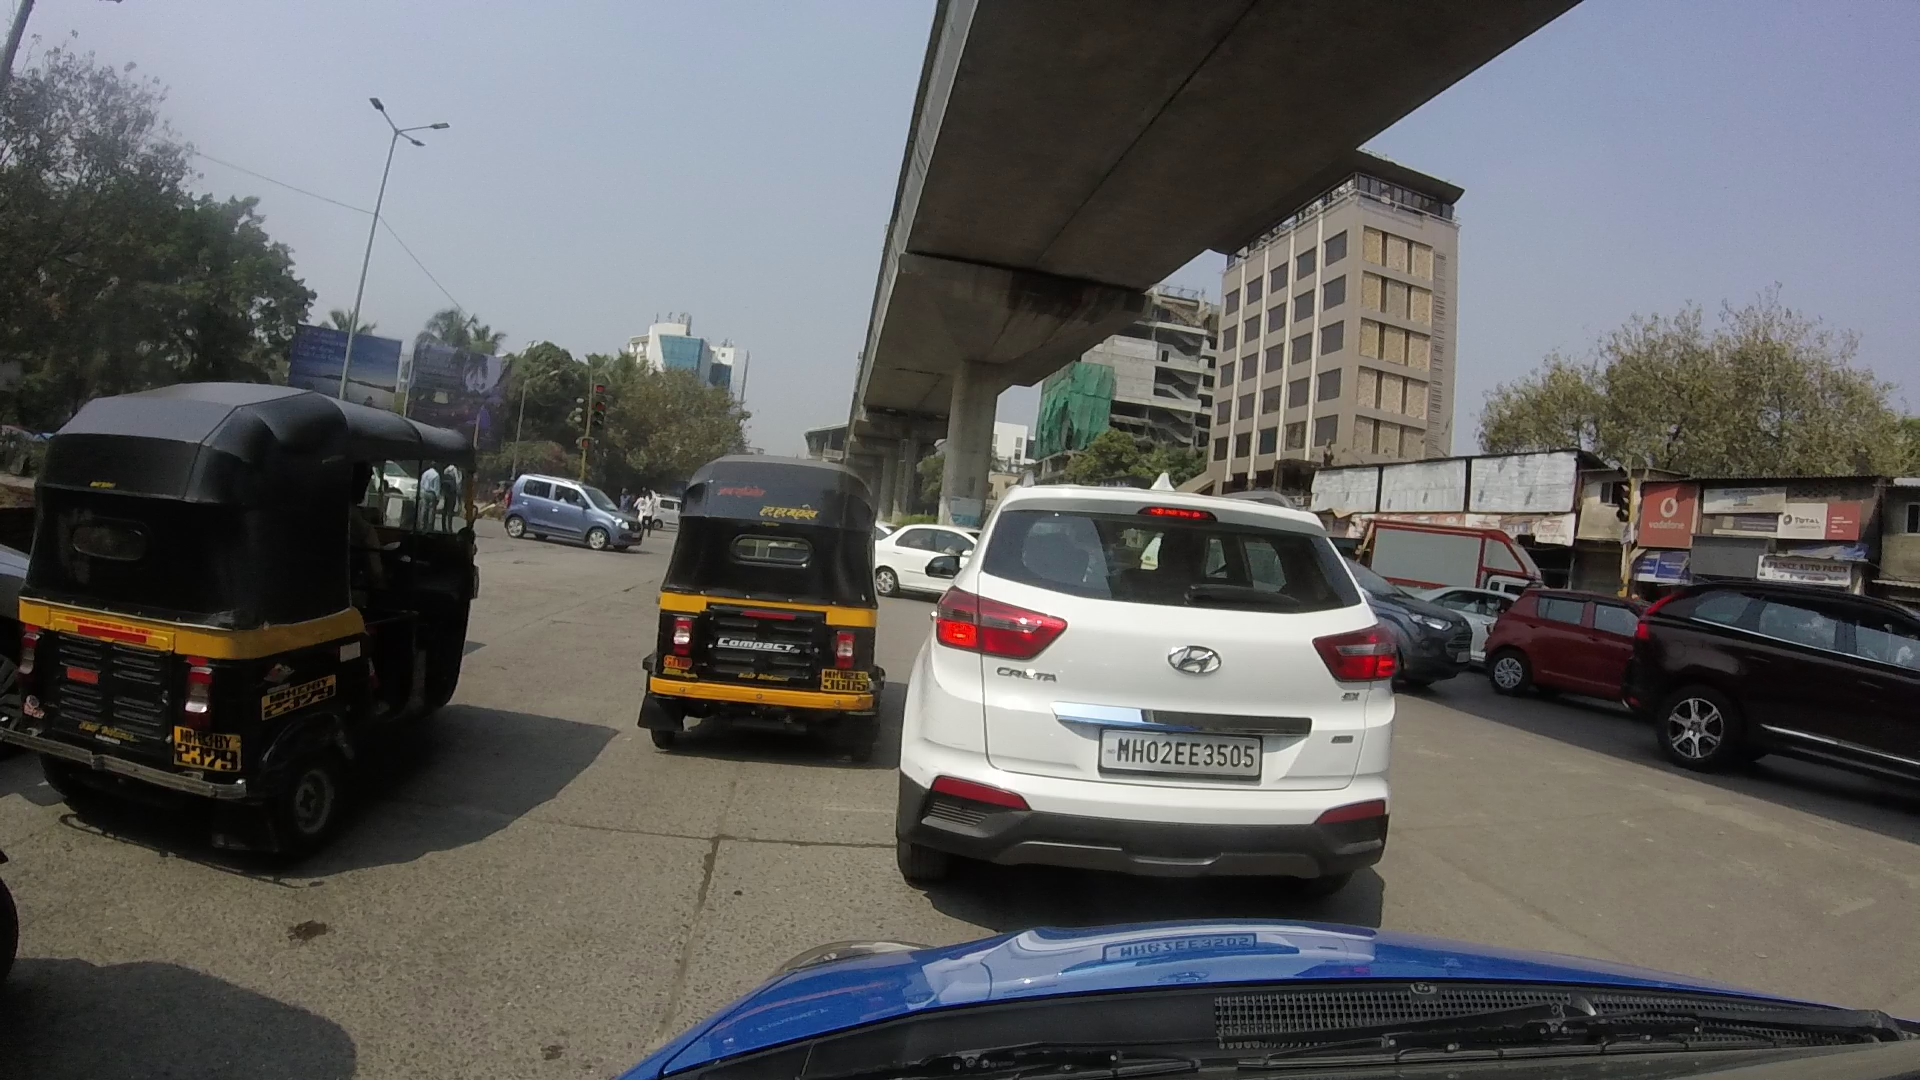car: (874, 460, 1427, 891), (1633, 554, 1917, 816), (1486, 584, 1642, 709), (1342, 553, 1472, 680), (501, 460, 645, 574)
rickshaw: (1, 348, 480, 884), (592, 429, 907, 775)
